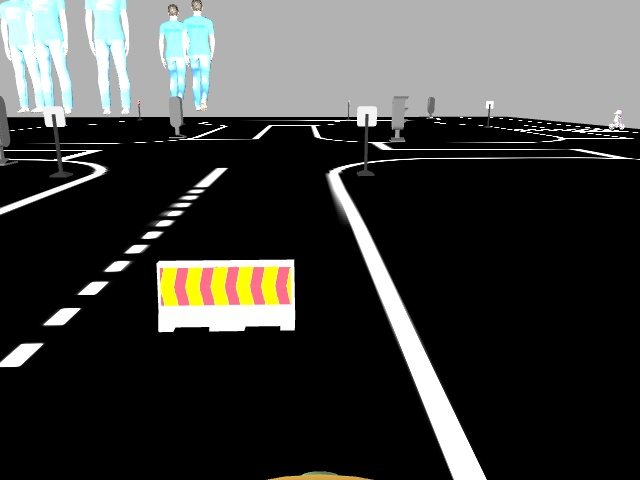ClosedRoadStand: (157, 263, 296, 327)
